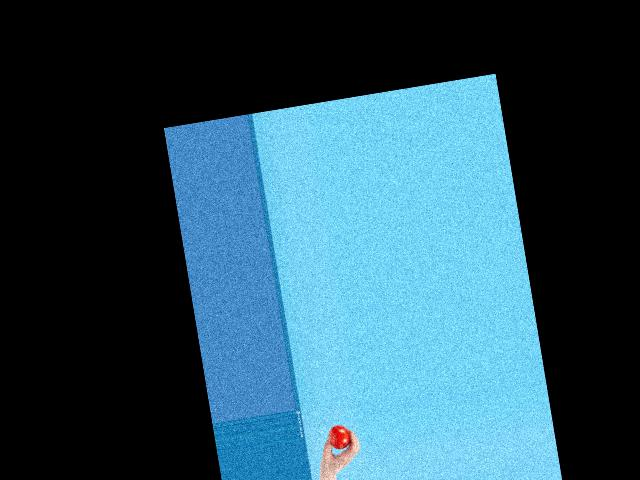tomato: (327, 424, 352, 450)
